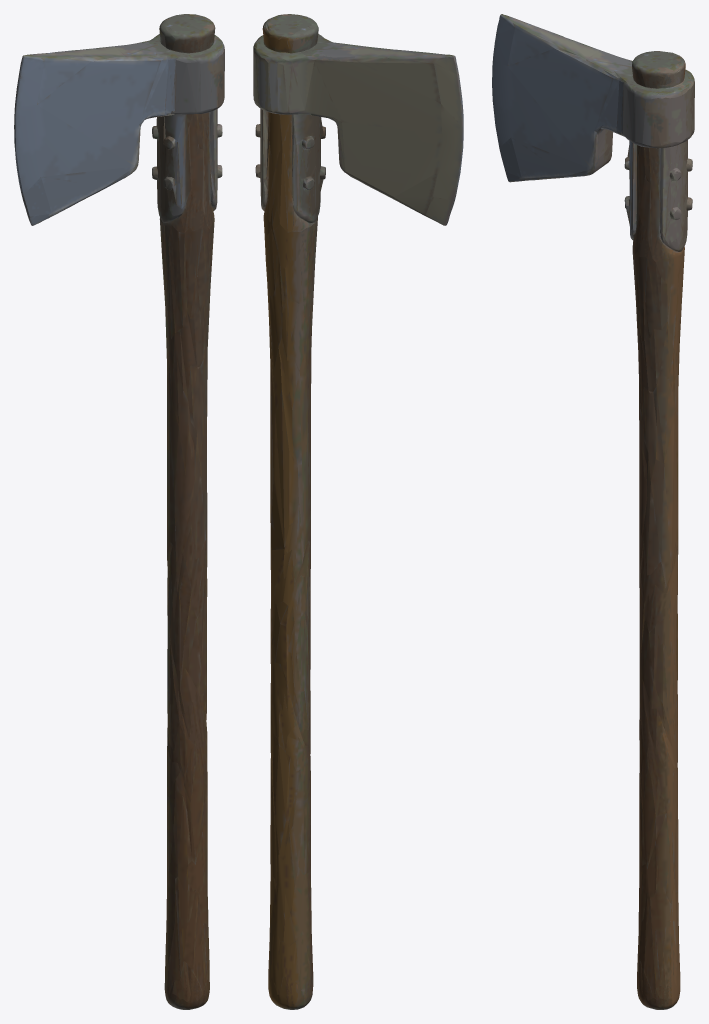
File: hoe.glb
The picture shows the model from 3 angles, left to right: view 1: azimuth 30°, elevation 25°; view 2: azimuth 150°, elevation 25°; view 3: azimuth 330°, elevation 25°; orthographic projection. The views are drawn at different scales.
Size of the model in its own units: 0.4106 by 1.9 by 0.1378.
1 material, 1 textured.
